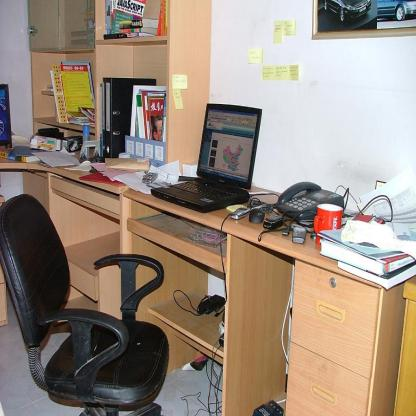board: (151, 103, 263, 212), (83, 124, 90, 160)
